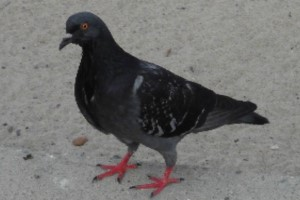pigeon: (57, 10, 270, 200)
